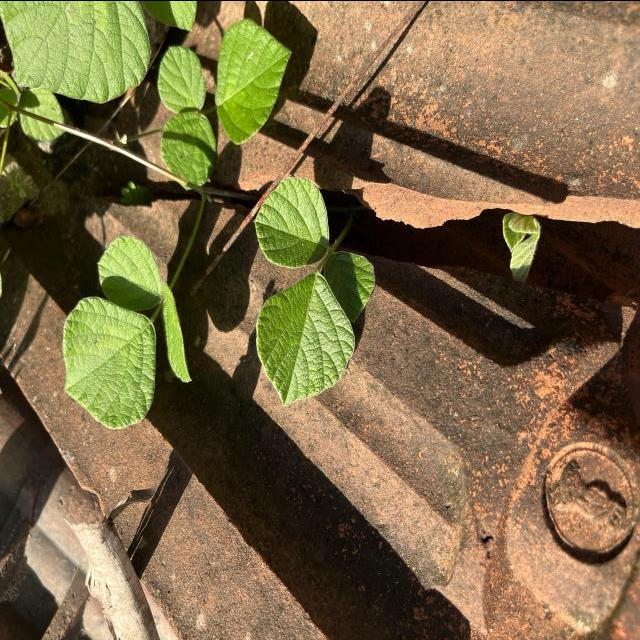Pseudarthria viscida: (252, 174, 377, 408), (60, 233, 194, 431), (154, 13, 294, 191)
